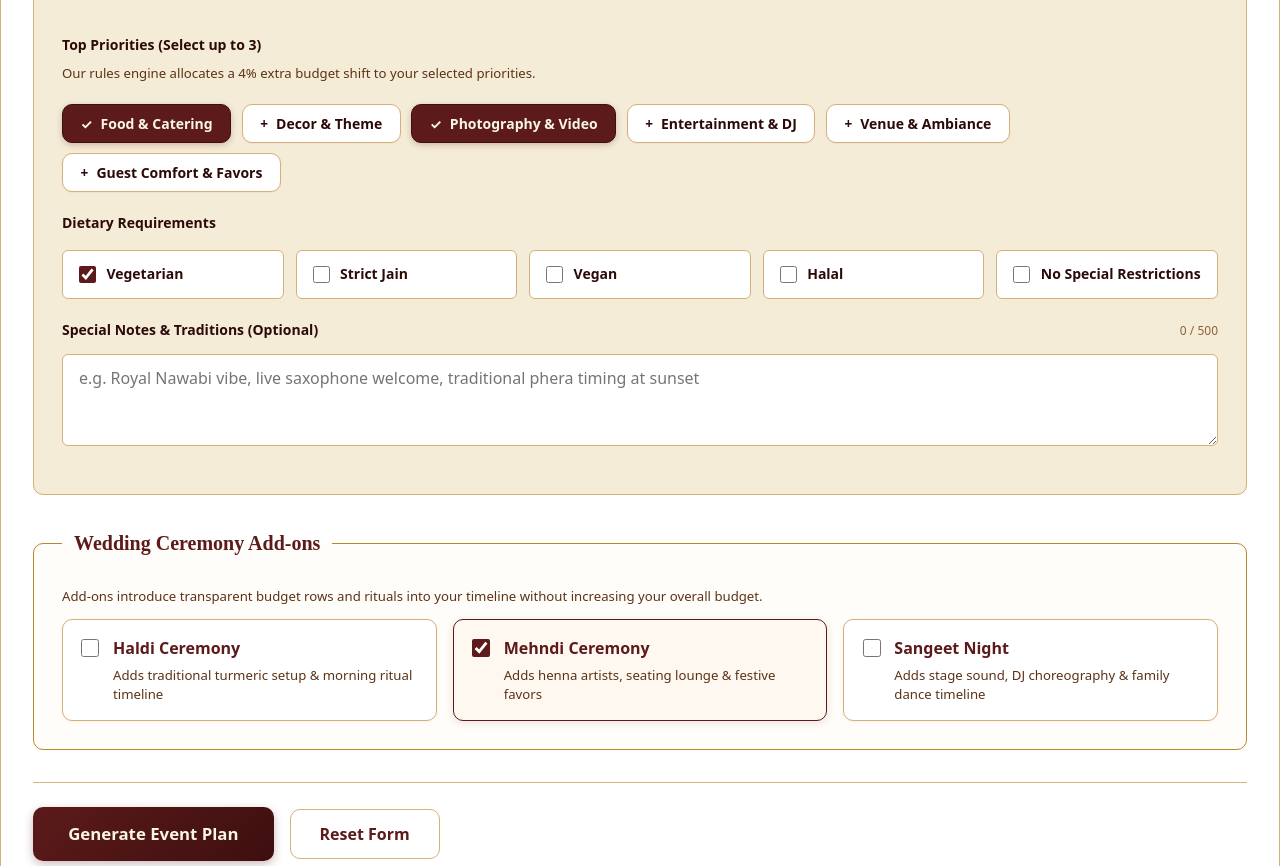
EventForm Component (EventForm.jsx) › shows validation errors when submitting an empty form
(page scrolled)
Click the button "Generate Event Plan" at (153,834), box x1=33 y1=807 x2=274 y2=861
(page scrolled)
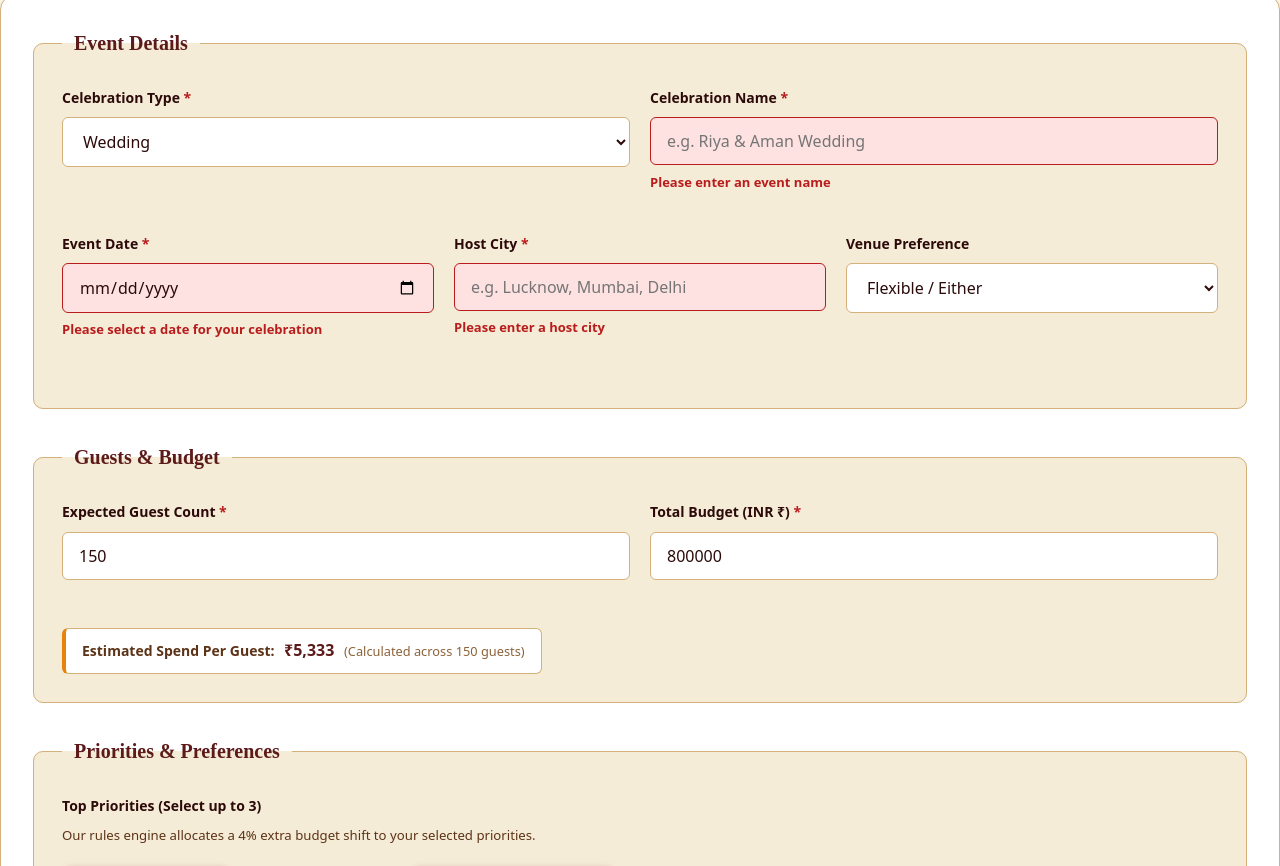
Expected: the text "Please enter an event name" is shown, x1=650 y1=173 x2=831 y2=191
Expected: the text "Please select a date for your celebration" is shown, x1=62 y1=320 x2=322 y2=338
Expected: the text "Please enter a host city" is shown, x1=454 y1=318 x2=605 y2=336
